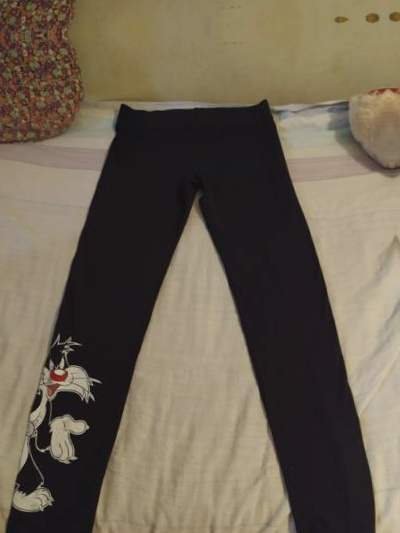Pants: (0, 62, 387, 533)
